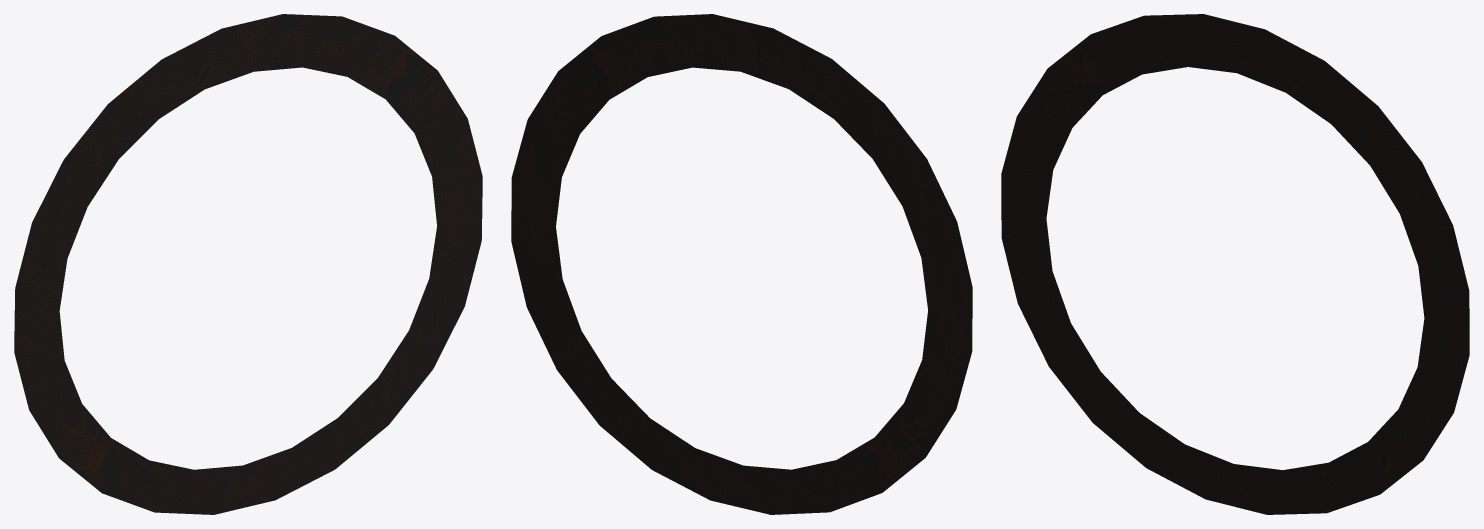
Rendered from original-287.obj.
3 views of the same model, side by side, from view 1: azimuth 30°, elevation 25°; view 2: azimuth 150°, elevation 25°; view 3: azimuth 330°, elevation 25° (orthographic).
Visible parts, largest first — view 1: mesh128/mesh128-geometry/material_1/component_1#mesh128-geometry; view 2: mesh128/mesh128-geometry/material_1/component_1#mesh128-geometry; view 3: mesh128/mesh128-geometry/material_1/component_1#mesh128-geometry.
Part boxes in pixels (box(x1,y1,x2,y2)): mesh128/mesh128-geometry/material_1/component_1#mesh128-geometry: box(14, 14, 482, 514); mesh128/mesh128-geometry/material_1/component_1#mesh128-geometry: box(511, 14, 972, 514); mesh128/mesh128-geometry/material_1/component_1#mesh128-geometry: box(1001, 14, 1469, 514).
Bounding box in the file's own units: 0.7703 × 0.7702 × 0.0141.
